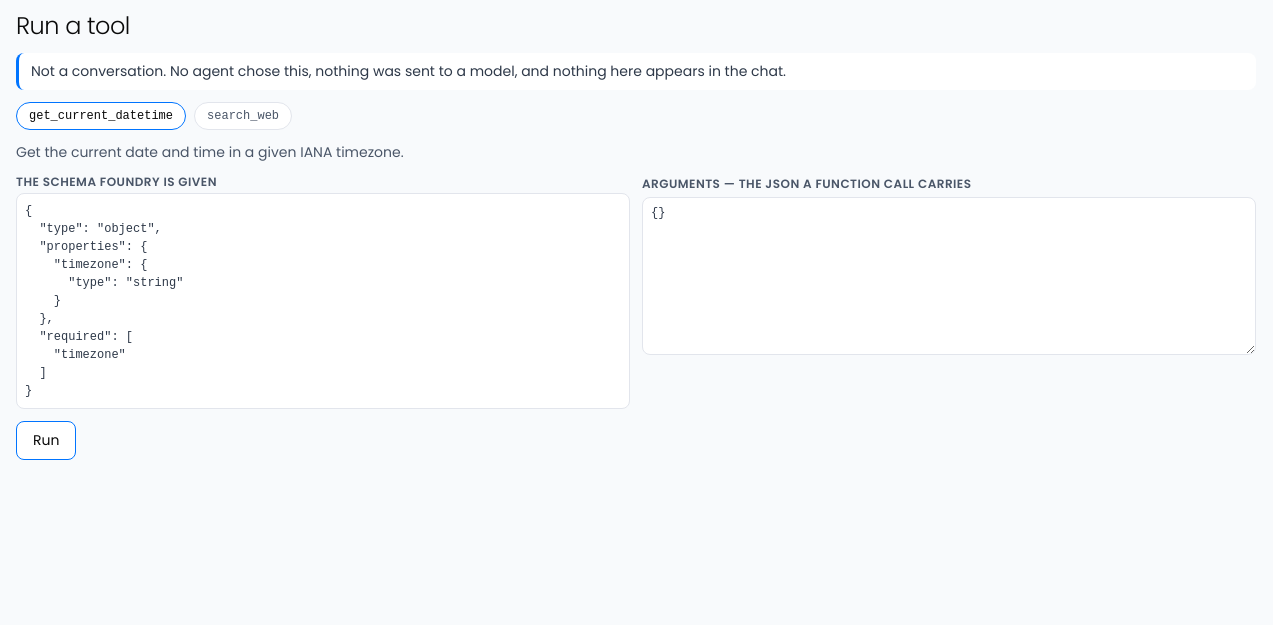
Scenario: running one (AC3, AC4) › renders the raw output and its duration
Click the button "Run" at (46, 441), box [16, 421, 76, 460]
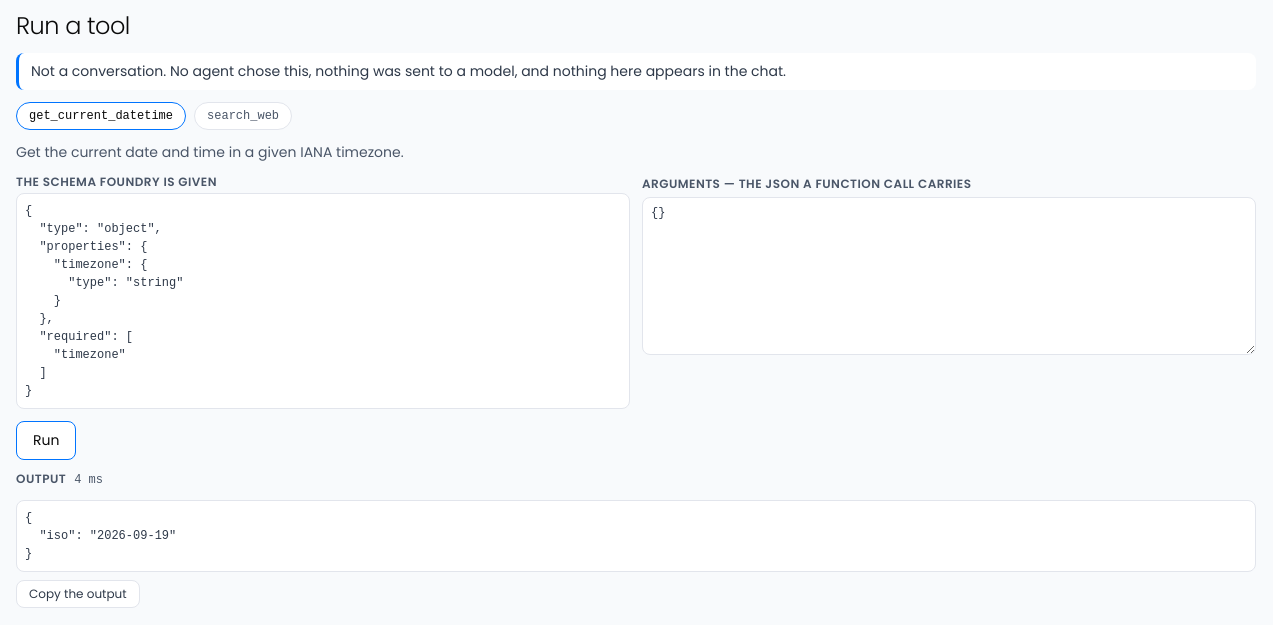
Now the text with test id "tool-output" shows "2026-09-19", box [25, 511, 176, 561]
